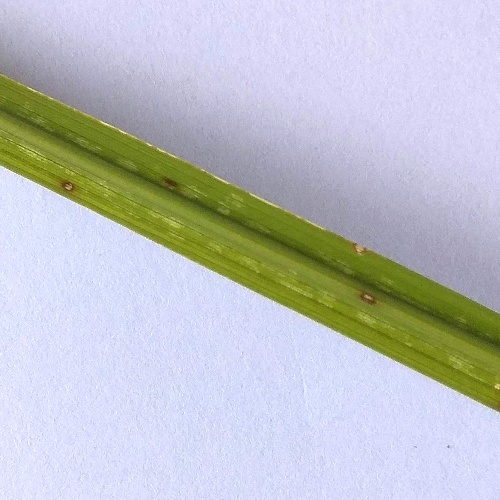Busuk Leher: (358, 284, 384, 317), (55, 173, 82, 197), (155, 171, 182, 191), (352, 237, 372, 260)
